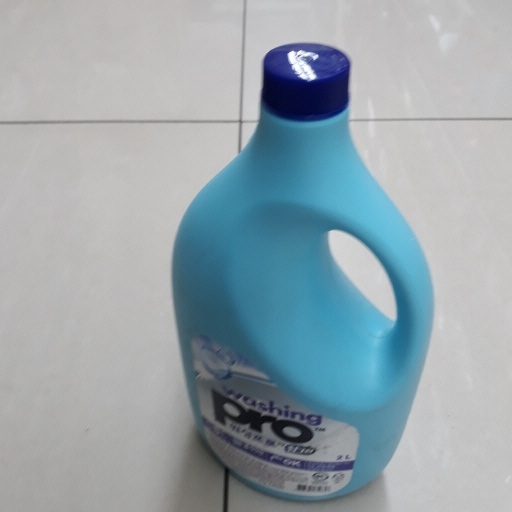Plastic_1: (172, 44, 435, 499)
